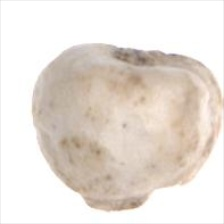L4: (31, 43, 221, 211)
